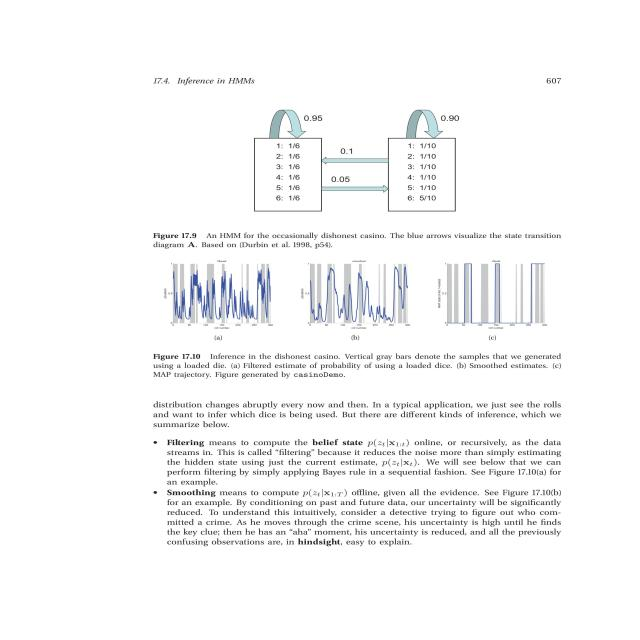diagram: (119, 98, 624, 387)
